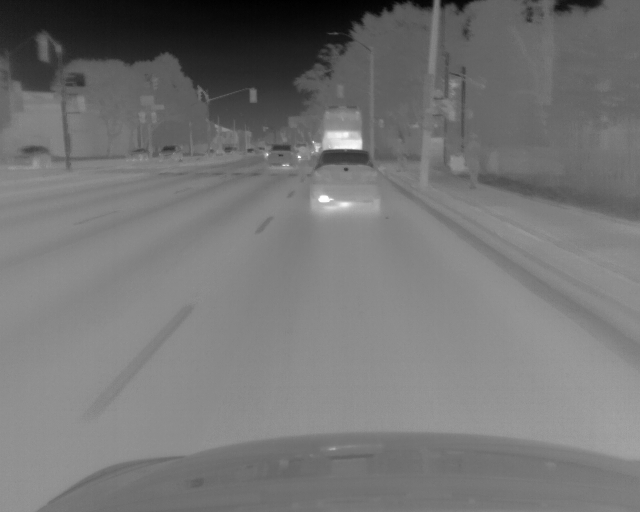car: (310, 148, 382, 215), (323, 105, 361, 150), (7, 145, 51, 171), (265, 143, 297, 166), (156, 144, 183, 162), (127, 147, 149, 162), (295, 142, 309, 162)
